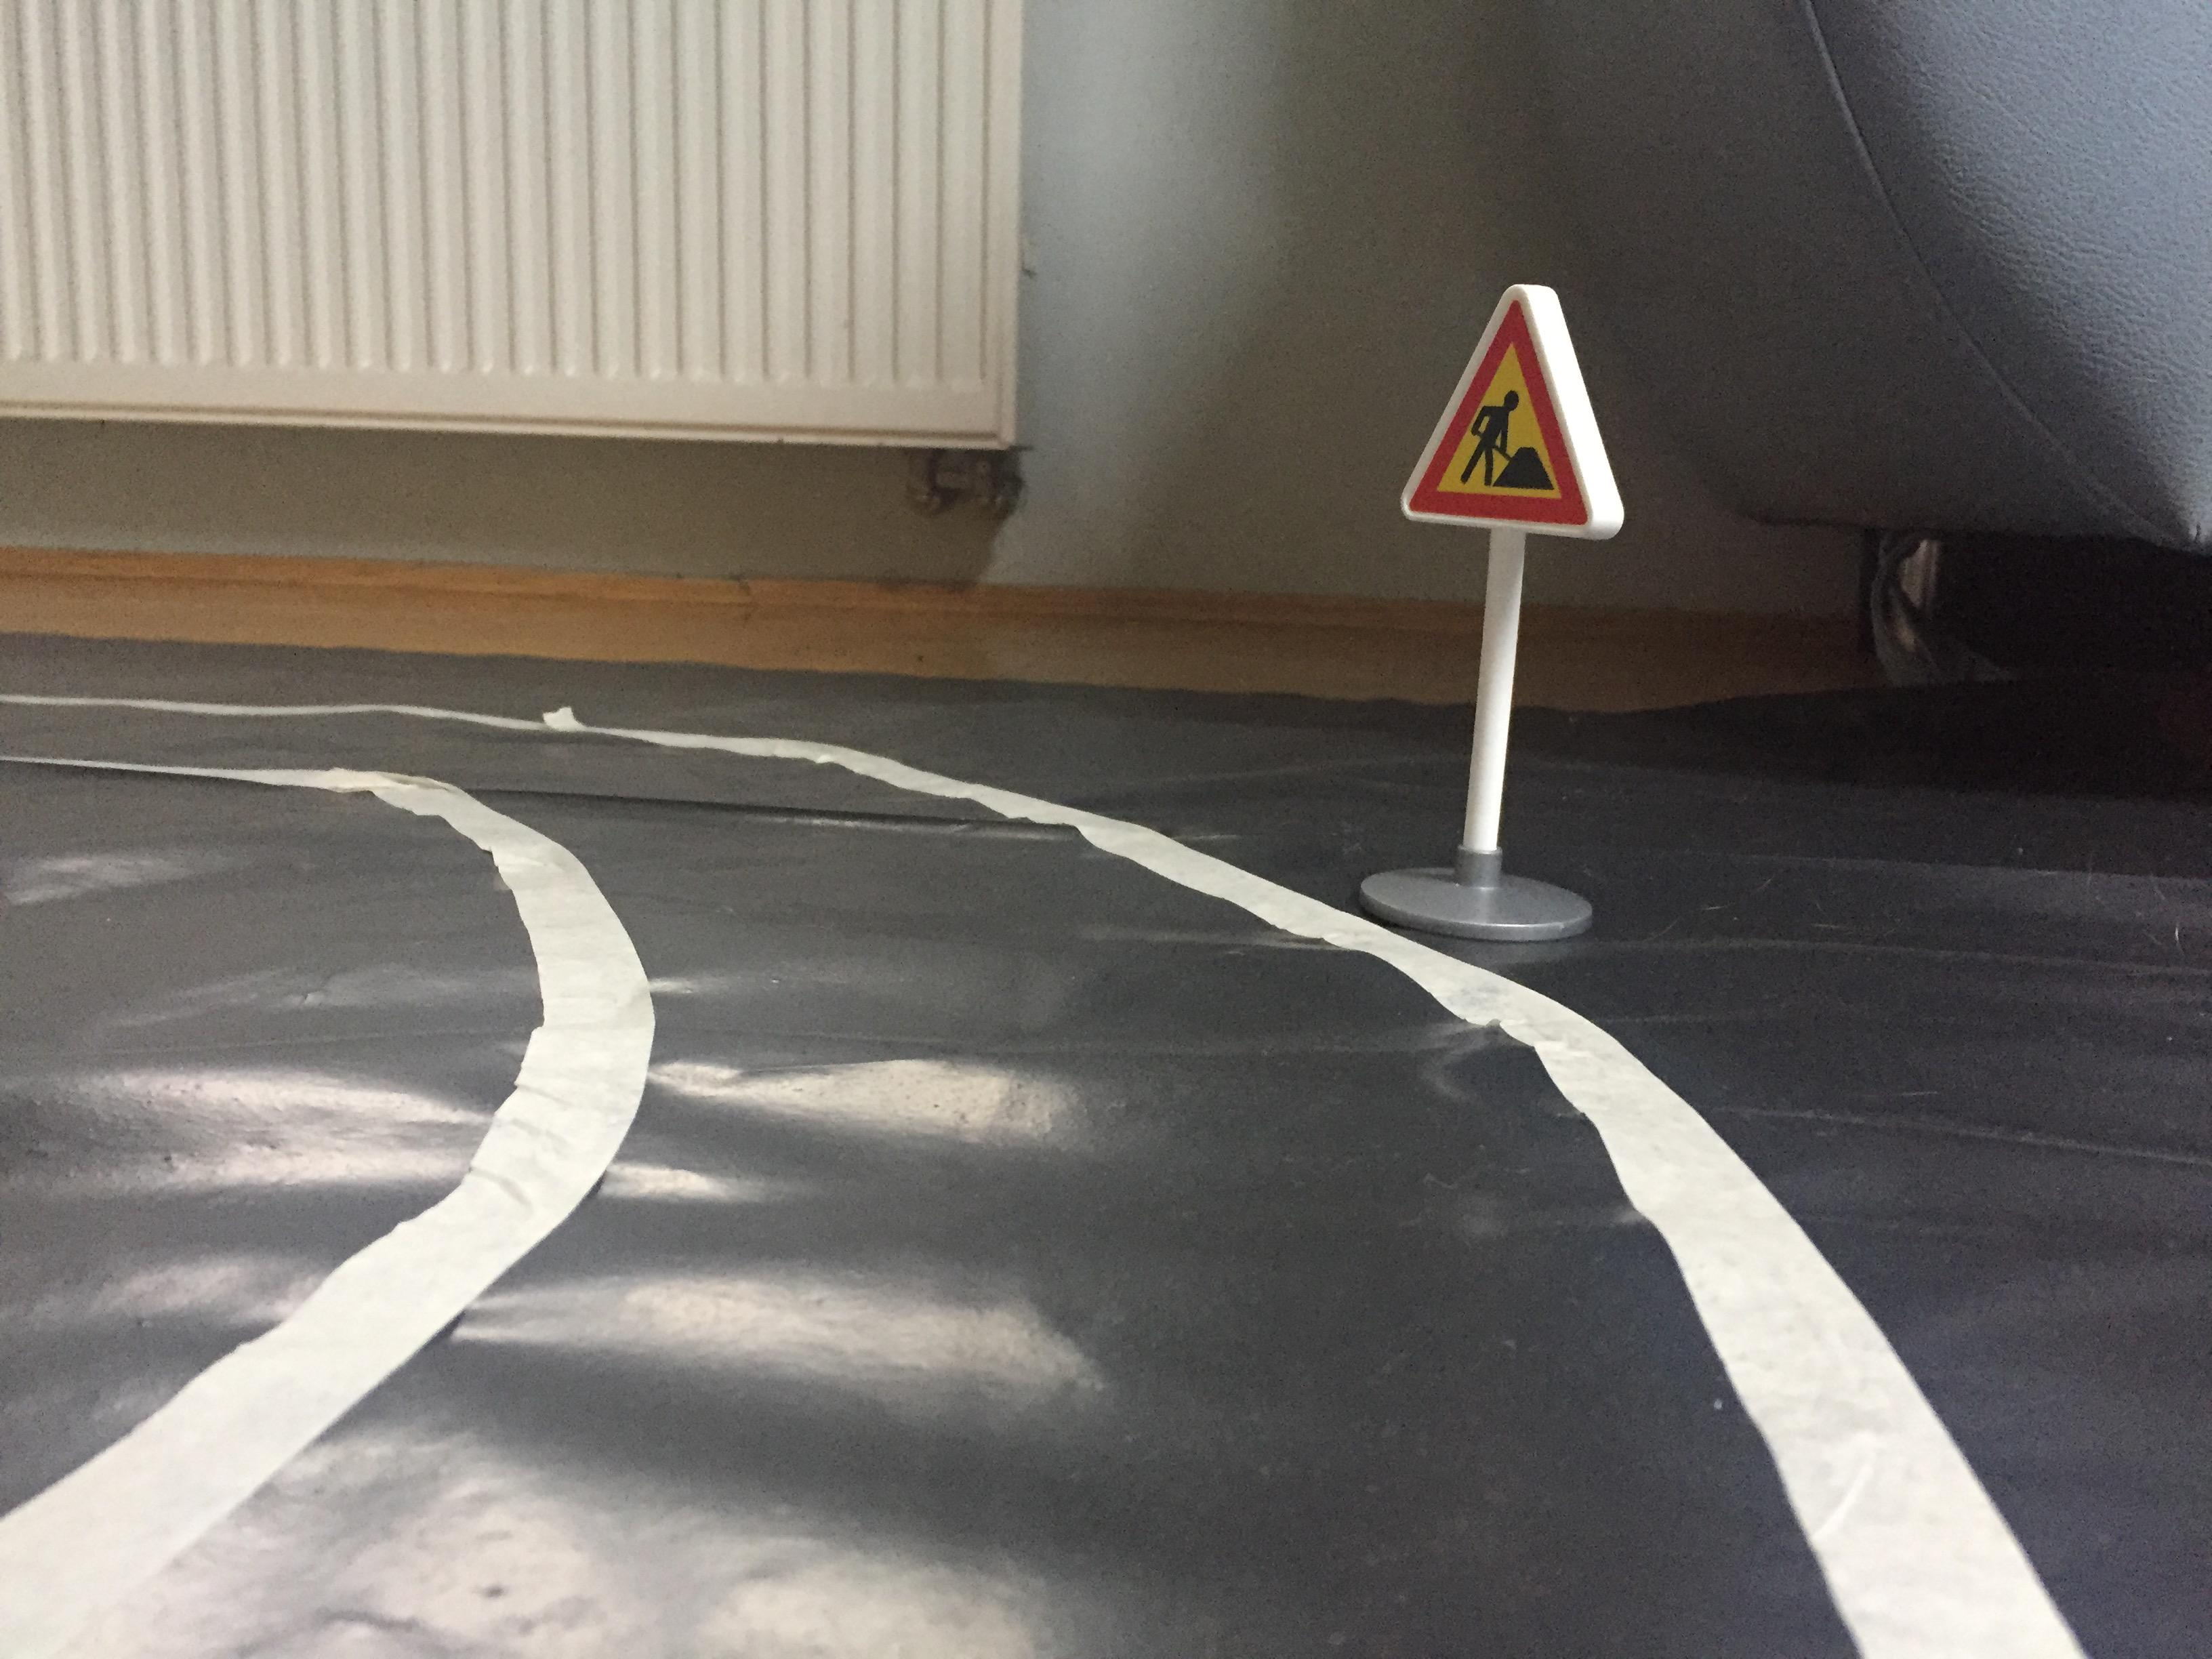work: (1386, 275, 1642, 552)
